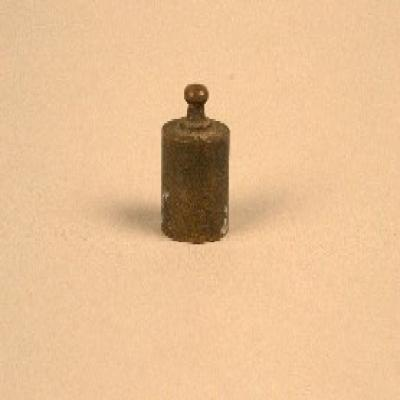technique: (160, 84, 232, 246)
